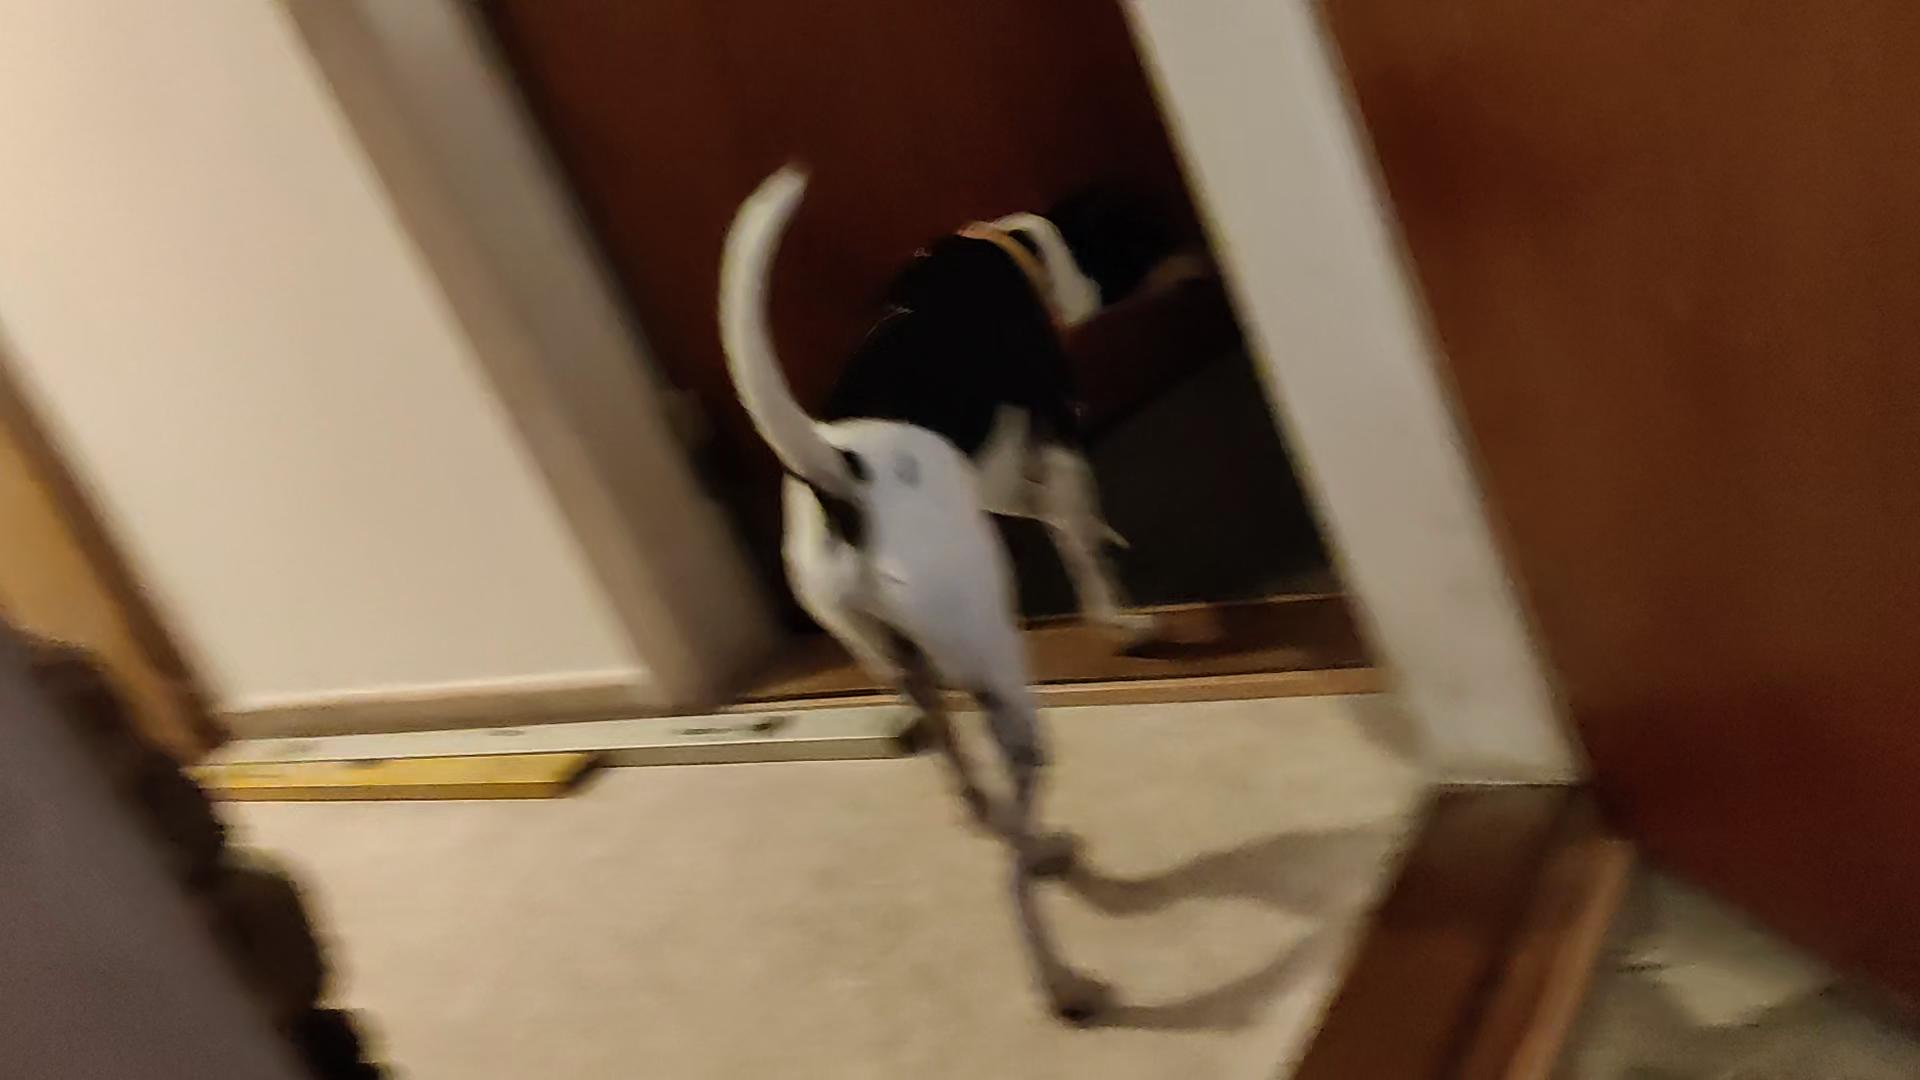Dog: (692, 136, 1288, 1040)
